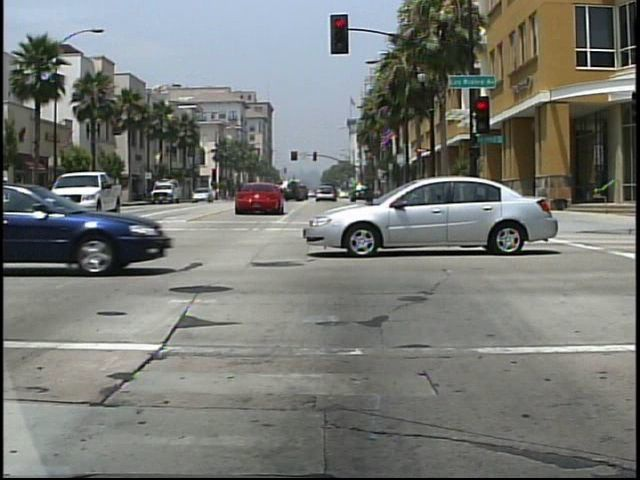person: (1, 173, 22, 229)
